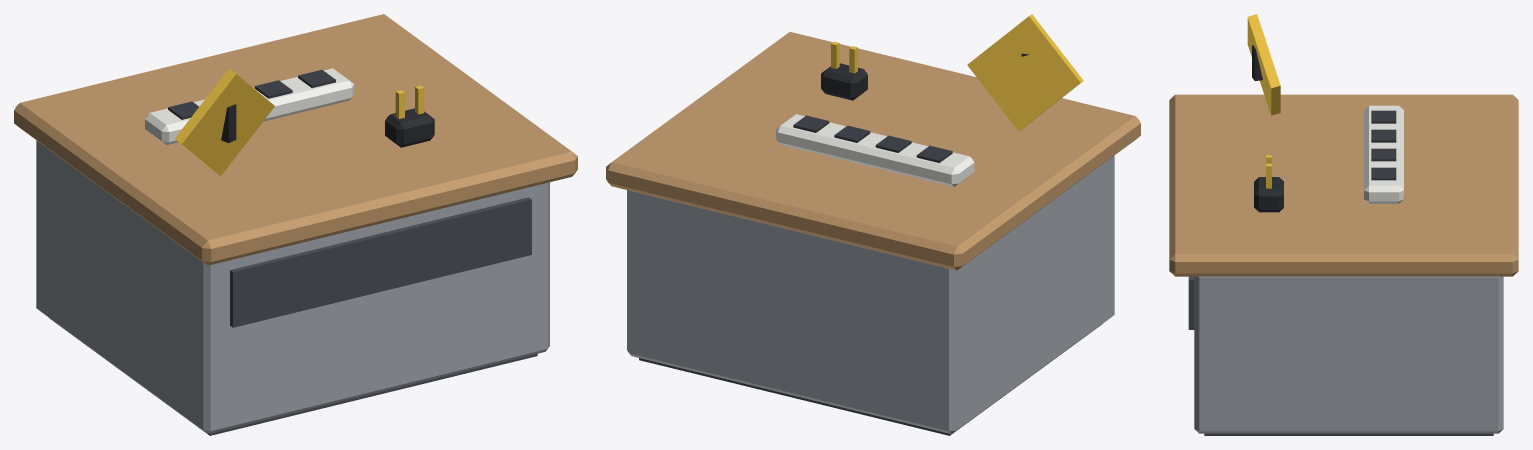
Rendered from thumbtacks_p2_3.glb.
3 renders of one model, left to right at view 1: azimuth 30°, elevation 25°; view 2: azimuth 150°, elevation 25°; view 3: azimuth 270°, elevation 25°, orthographic. The views are drawn at different scales.
Visible parts, largest first — view 1: thumbtacks_p2_3_mesh_Desk, thumbtacks_p2_3_mesh; view 2: thumbtacks_p2_3_mesh_Desk, thumbtacks_p2_3_mesh; view 3: thumbtacks_p2_3_mesh_Desk, thumbtacks_p2_3_mesh.
Boxes of the visible parts, x1,y1,x2,y2 form: thumbtacks_p2_3_mesh_Desk: [14, 14, 577, 435]; thumbtacks_p2_3_mesh: [145, 68, 434, 176]; thumbtacks_p2_3_mesh_Desk: [606, 32, 1140, 435]; thumbtacks_p2_3_mesh: [776, 14, 1083, 186]; thumbtacks_p2_3_mesh_Desk: [1169, 94, 1518, 435]; thumbtacks_p2_3_mesh: [1247, 14, 1403, 212].
Bounding box in the file's own units: 0.78 × 0.6627 × 0.7.
